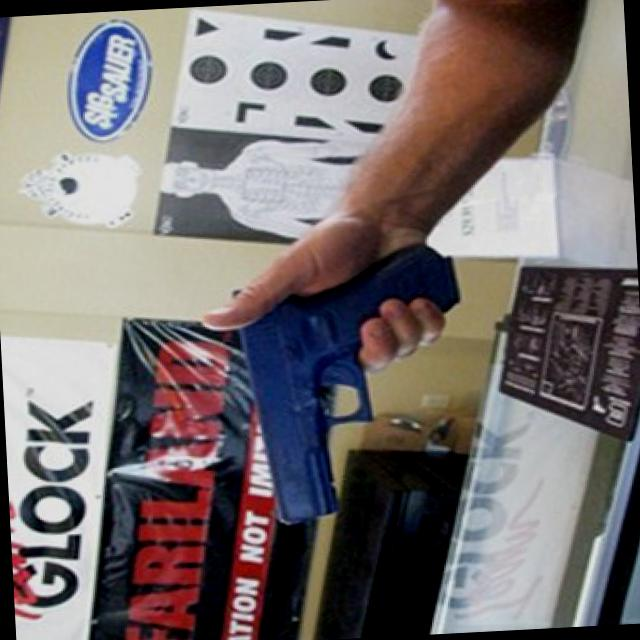handgun: (239, 246, 472, 532)
